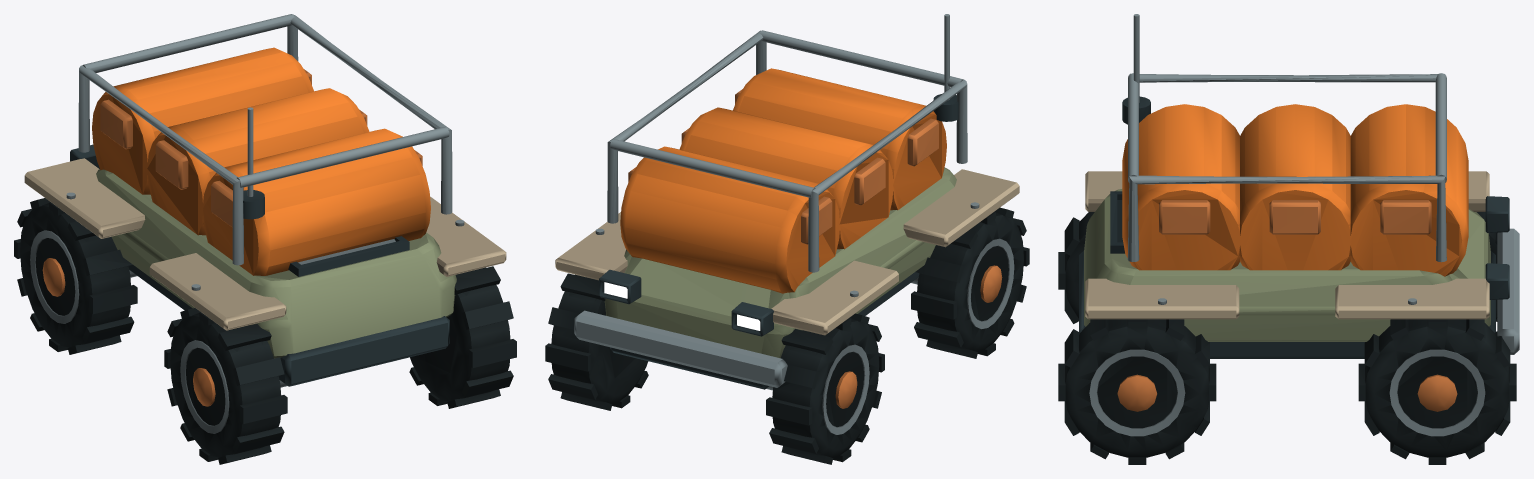
File: DemolitionBuggy.glb
3 views of the same model, side by side, from view 1: azimuth 30°, elevation 25°; view 2: azimuth 150°, elevation 25°; view 3: azimuth 270°, elevation 25° (orthographic). The views are drawn at different scales.
Parts seen in each view (by area): view 1: export_DemolitionBuggy_Axle, export_DemolitionBuggy_Wheel_-0.82_-0.94_Tire, export_DemolitionBuggy_Wheel_-0.82_0.94_Tire, export_DemolitionBuggy_Wheel_0.82_-0.94_Tire, export_DemolitionBuggy_Antenna; view 2: export_DemolitionBuggy_Axle, export_DemolitionBuggy_Wheel_-0.82_0.94_Tire, export_DemolitionBuggy_Wheel_-0.82_-0.94_Tire, export_DemolitionBuggy_Wheel_0.82_0.94_Tire; view 3: export_DemolitionBuggy_Axle, export_DemolitionBuggy_Wheel_0.82_-0.94_Tire, export_DemolitionBuggy_Wheel_0.82_0.94_Tire, export_DemolitionBuggy_Wheel_-0.82_-0.94_Tire, export_DemolitionBuggy_Antenna.
Part boxes in pixels (x1=…): export_DemolitionBuggy_Axle: x1=24, y1=14, x2=506, y2=387; export_DemolitionBuggy_Wheel_-0.82_-0.94_Tire: x1=164, y1=308, x2=287, y2=464; export_DemolitionBuggy_Wheel_-0.82_0.94_Tire: x1=14, y1=198, x2=137, y2=354; export_DemolitionBuggy_Wheel_0.82_-0.94_Tire: x1=409, y1=266, x2=516, y2=408; export_DemolitionBuggy_Antenna: x1=247, y1=107, x2=253, y2=196; export_DemolitionBuggy_Axle: x1=555, y1=30, x2=1019, y2=390; export_DemolitionBuggy_Wheel_-0.82_0.94_Tire: x1=766, y1=313, x2=884, y2=464; export_DemolitionBuggy_Wheel_-0.82_-0.94_Tire: x1=911, y1=207, x2=1029, y2=358; export_DemolitionBuggy_Wheel_0.82_0.94_Tire: x1=545, y1=273, x2=648, y2=410; export_DemolitionBuggy_Axle: x1=1079, y1=73, x2=1519, y2=358; export_DemolitionBuggy_Wheel_0.82_-0.94_Tire: x1=1058, y1=319, x2=1216, y2=464; export_DemolitionBuggy_Wheel_0.82_0.94_Tire: x1=1358, y1=319, x2=1516, y2=464; export_DemolitionBuggy_Wheel_-0.82_-0.94_Tire: x1=1058, y1=212, x2=1094, y2=323; export_DemolitionBuggy_Antenna: x1=1133, y1=14, x2=1139, y2=102.
Size of the model in its own units: 2.03 by 2.33 by 2.88.
